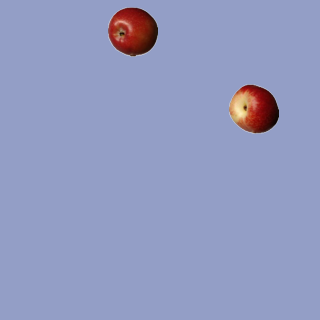Apple Braeburn: (107, 6, 157, 56)
Nectarine: (228, 83, 278, 133)
